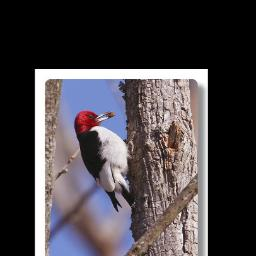Woodpecker: (74, 110, 137, 211)
